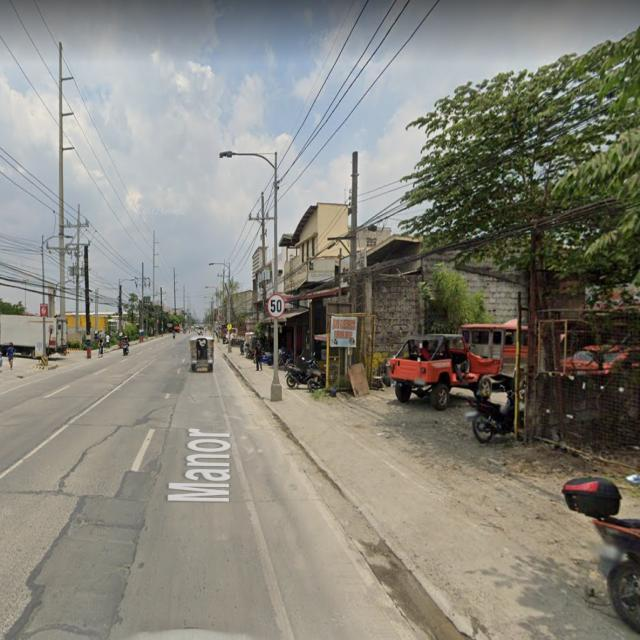50 kph: (266, 290, 288, 322)
